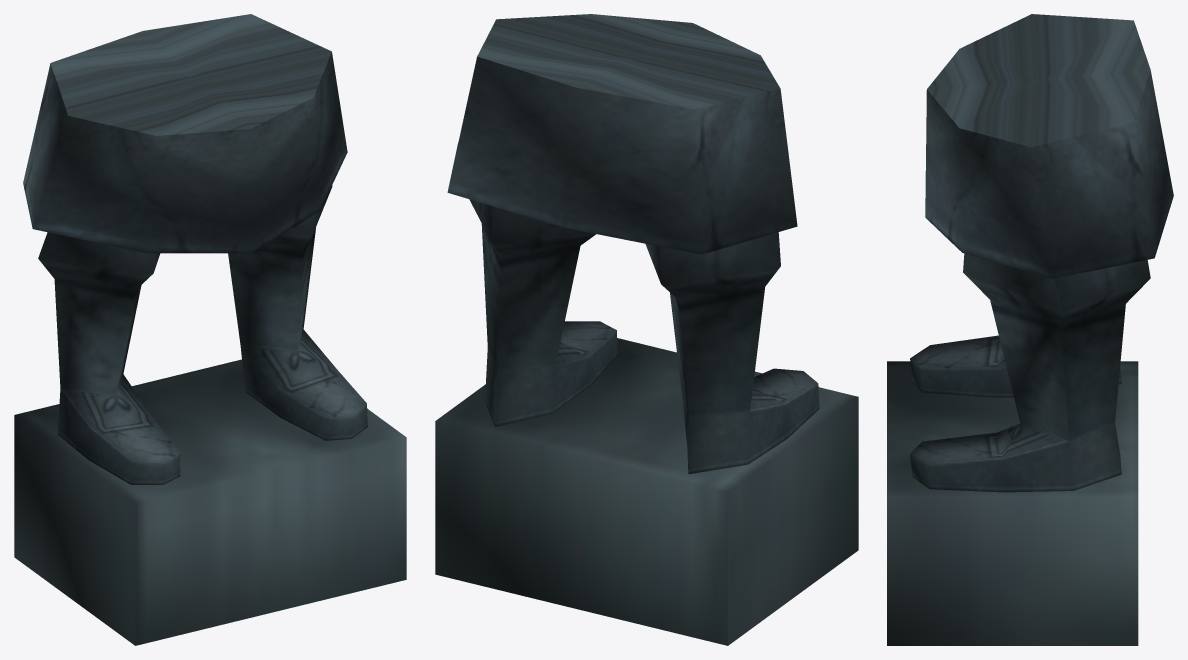
File: Stage_DiXiaCheng_BinMaYong_04.FBX
3 renders of one model, left to right at view 1: azimuth 30°, elevation 25°; view 2: azimuth 150°, elevation 25°; view 3: azimuth 270°, elevation 25°, orthographic. The views are drawn at different scales.
Visible parts, largest first — view 1: Stage_DiXiaCheng_BinMaYong_04; view 2: Stage_DiXiaCheng_BinMaYong_04; view 3: Stage_DiXiaCheng_BinMaYong_04.
Part boxes in pixels (<box>): Stage_DiXiaCheng_BinMaYong_04: <box>14,14,406,645</box>; Stage_DiXiaCheng_BinMaYong_04: <box>435,14,858,645</box>; Stage_DiXiaCheng_BinMaYong_04: <box>887,14,1173,645</box>.
Size of the model in its own units: 69.91 by 104 by 53.18.
